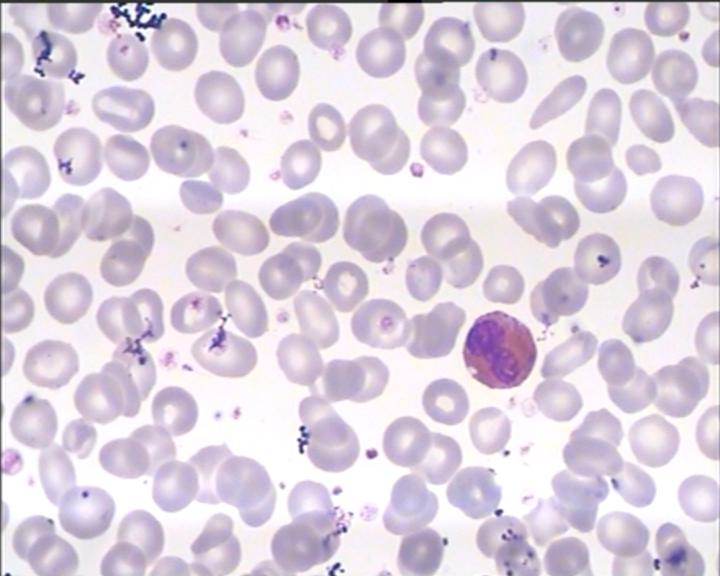eosi: (458, 309, 540, 393)
